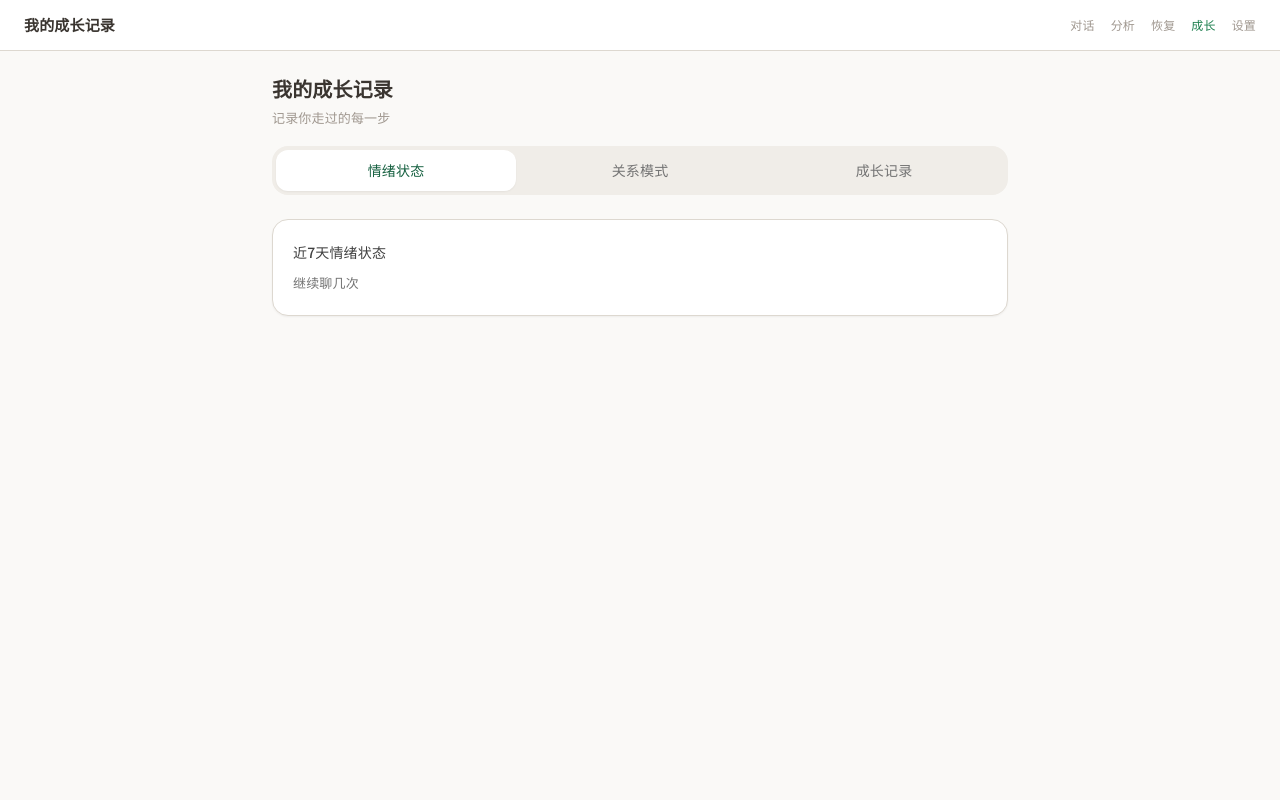
Test case: <GrowthPage /> › 按 created_at 倒序渲染 events 段落并展示中文类型标签
Click the button "成长记录". click: (884, 170)
box: [764,150,1004,190]
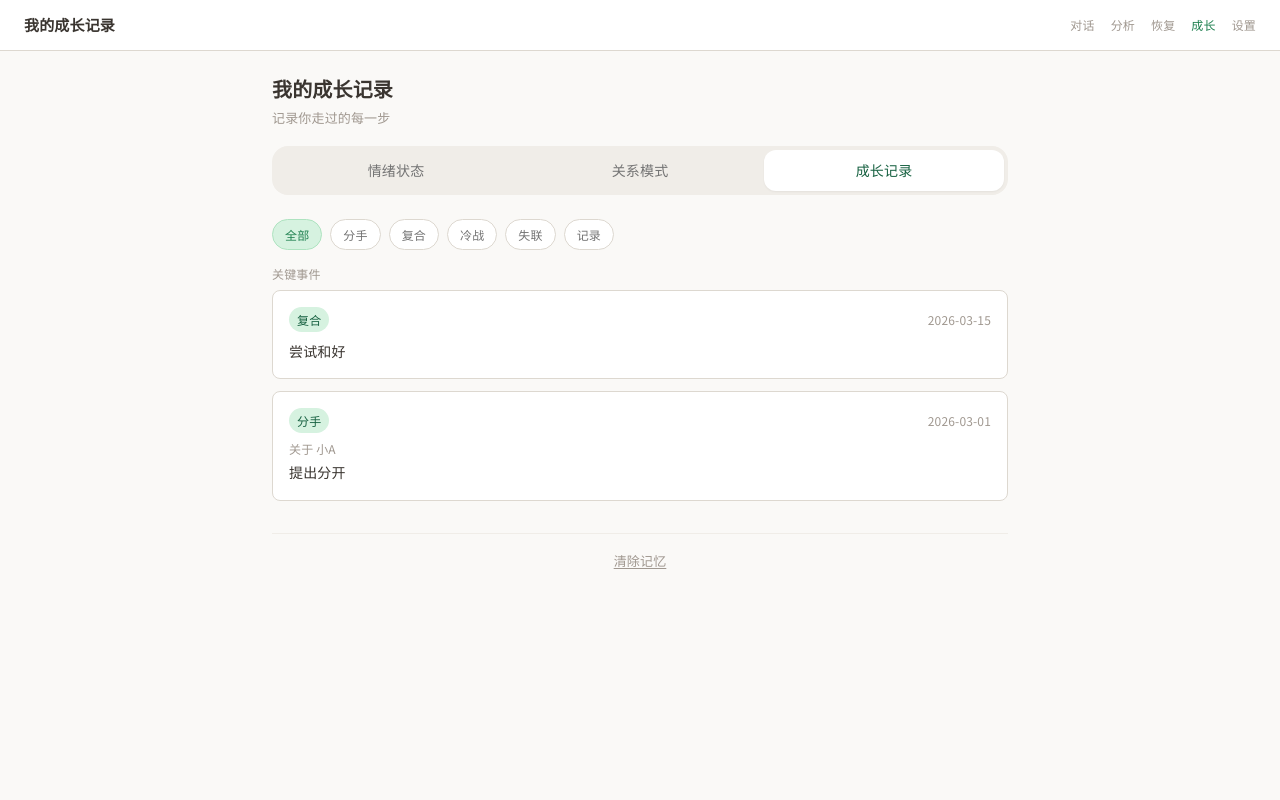
Check: the text "提出分开" is shown, box [289,462,346,482]
Check: the text "尝试和好" is shown, box [289,340,346,360]
Check: the list item "复合 2026-03-15 尝试和好" is shown, box [272,290,1008,379]
